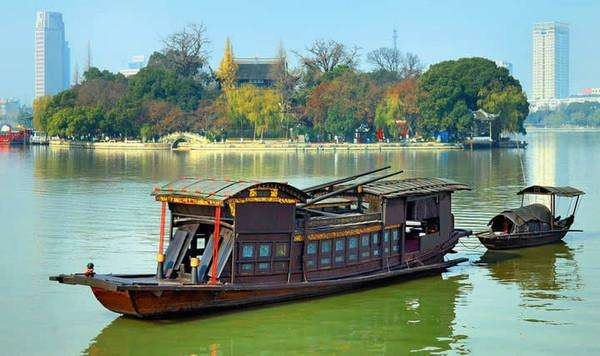boat: (87, 172, 455, 318), (487, 182, 583, 256)
